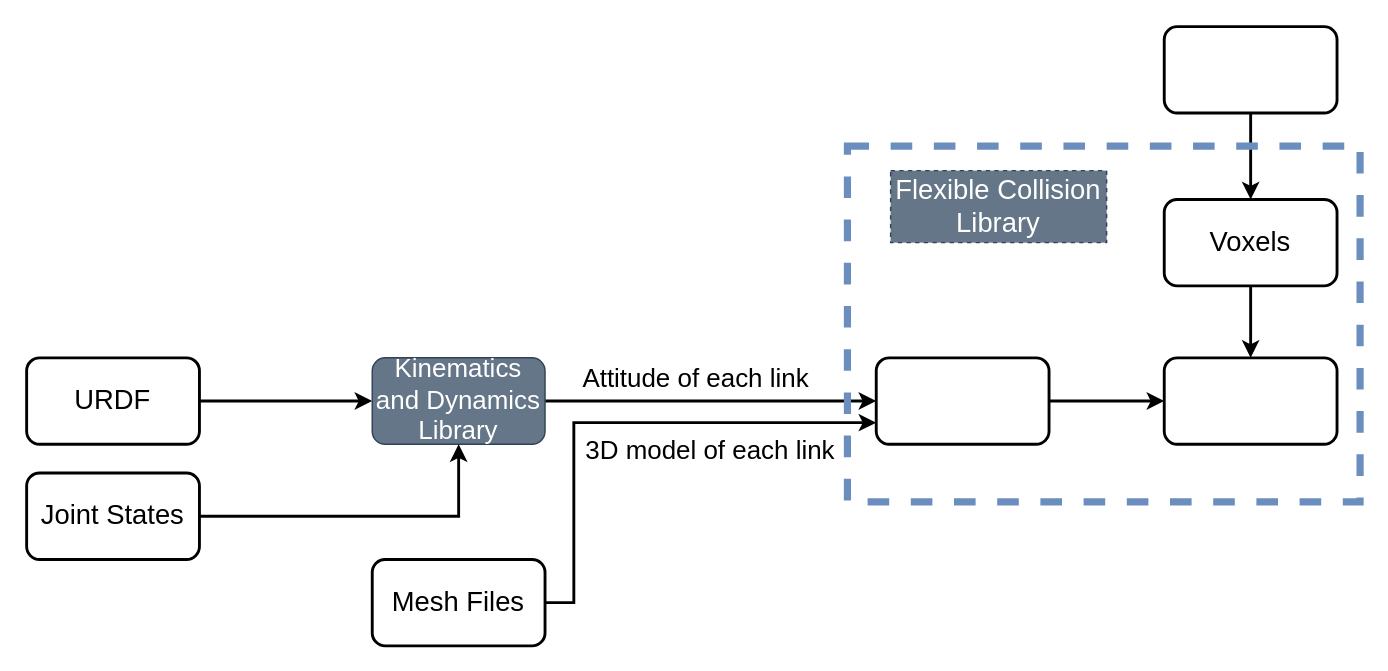
The diagram is 1388 pixels wide and 671 high, and some of its shapes have lost their labels. The centre of each missing label's shape, as x and y in pixels:
BVH: point (962, 400)
Collision Detection: point (1250, 400)
Map: point (1250, 69)
